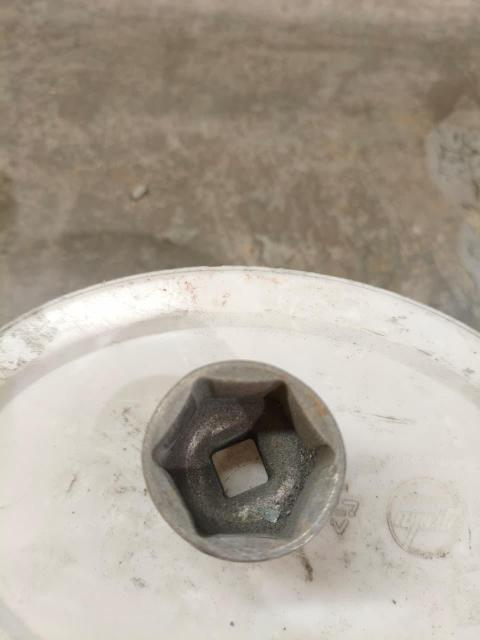Metal: (141, 360, 348, 563)
